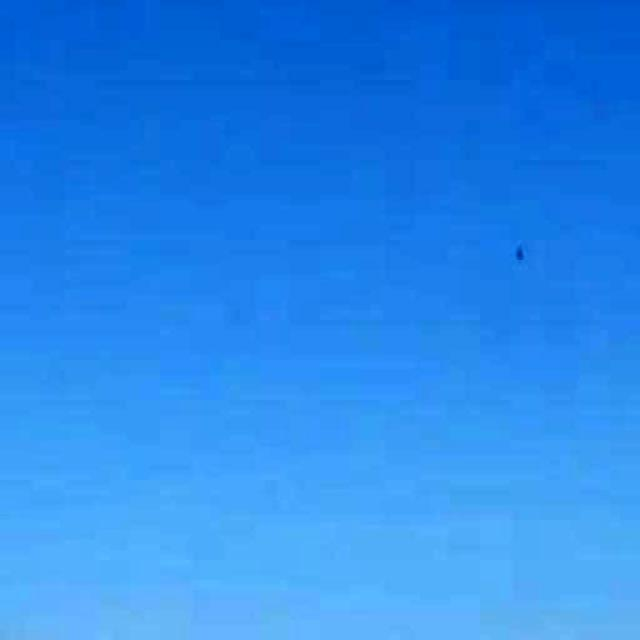drone: (494, 218, 542, 291)
